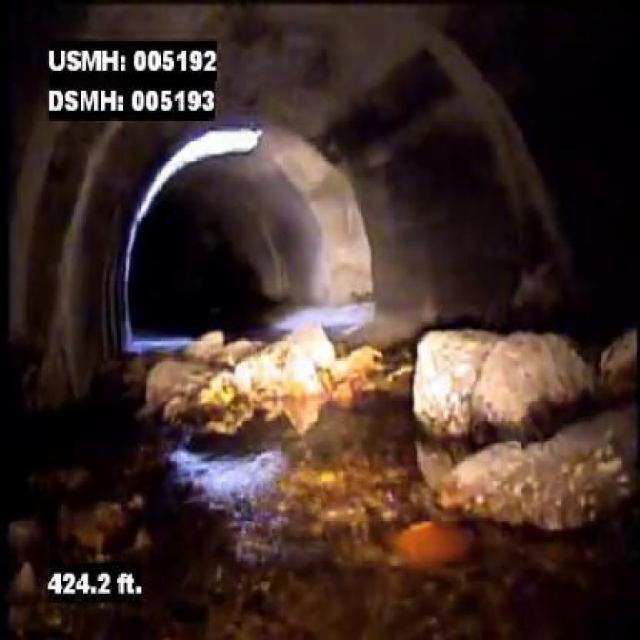Obstacle: (410, 325, 638, 540), (143, 318, 334, 438)
